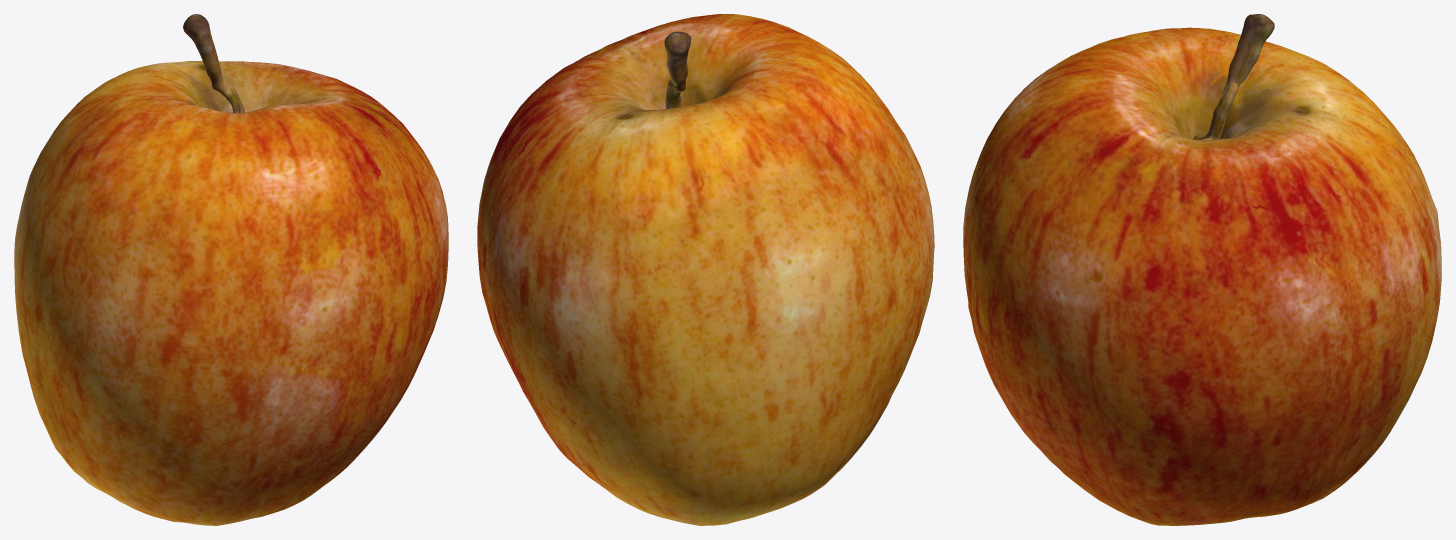
File: apple.obj
3 views of the same model, side by side, from view 1: azimuth 30°, elevation 25°; view 2: azimuth 150°, elevation 25°; view 3: azimuth 270°, elevation 25° (orthographic). The views are drawn at different scales.
Parts seen in each view (by area): view 1: objapple; view 2: objapple; view 3: objapple.
Part boxes in pixels (x1,y1,x2,y2): objapple: [14, 14, 448, 525]; objapple: [477, 14, 934, 525]; objapple: [963, 14, 1441, 525].
Bounding box in the file's own units: 66.34 × 76.39 × 68.08.
